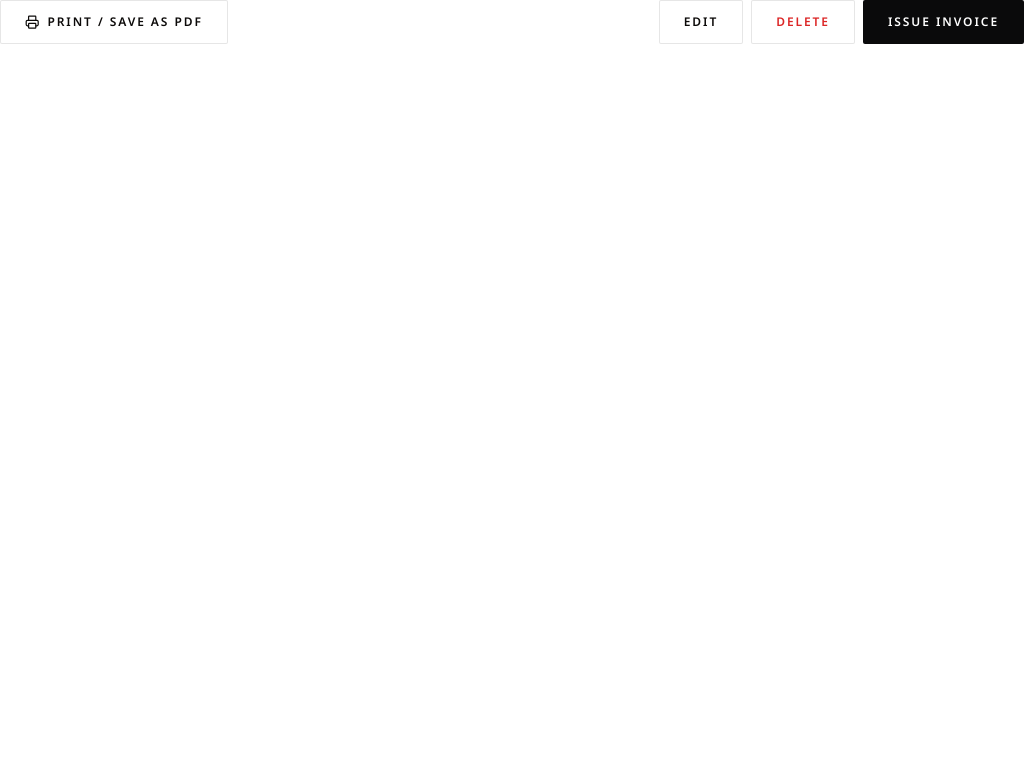
Test: InvoiceActions › disables Issue invoice when notice is checked but the email is blank
The width and height of the screenshot is (1024, 768).
Click the button "Issue invoice".
click(944, 22)  # box [863,0,1023,44]
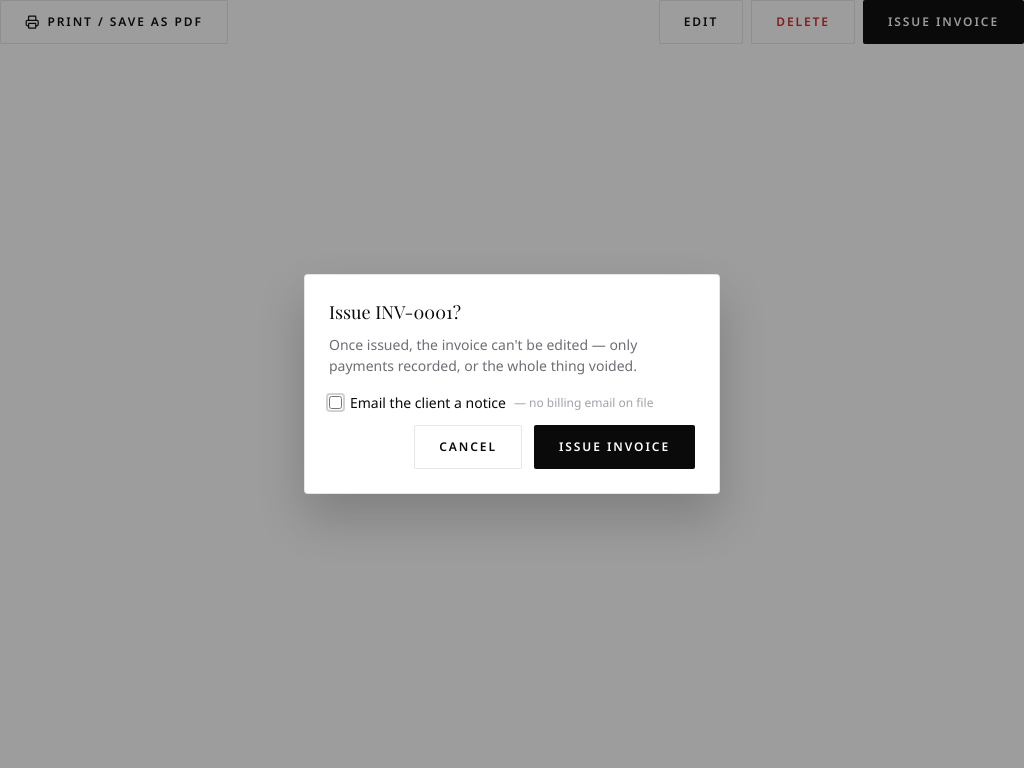
Expected: the heading "Issue INV-0001?" is shown, [329,300,461,324]
Expected: the text "— no billing email on file" is shown, [514,394,653,412]
Click the checkbox labelled "Email the client a notice — no billing email on file".
click(336, 402)  # box [329,396,342,409]
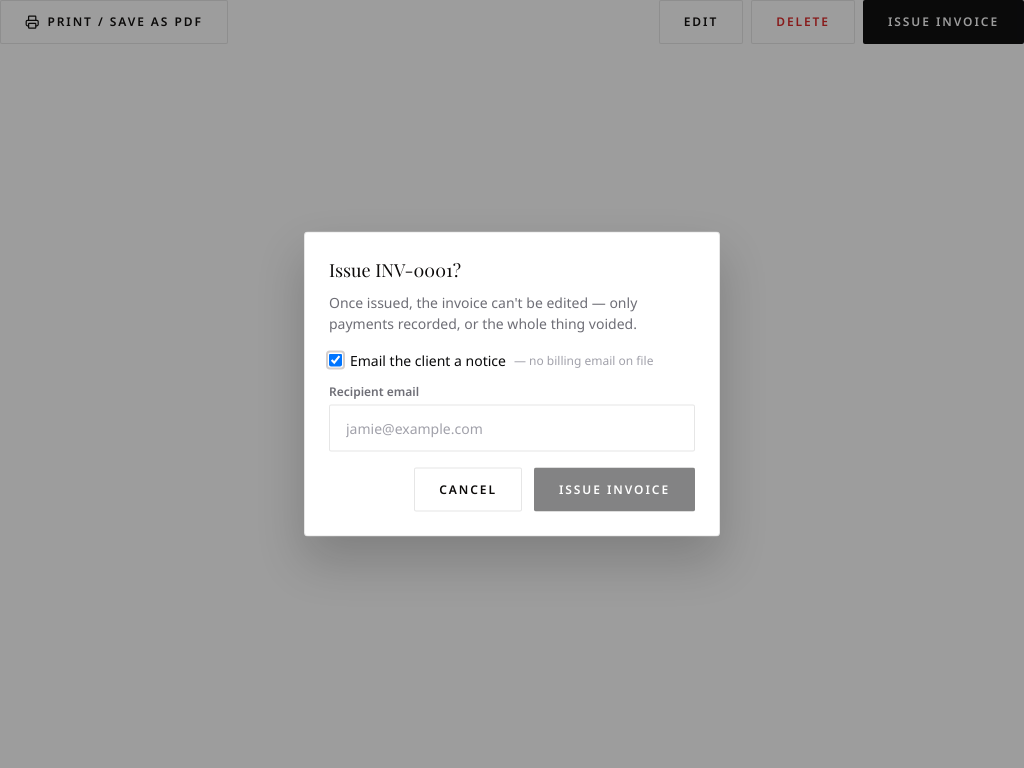
Expected: the button "Issue invoice" is disabled, [534,468,695,512]
